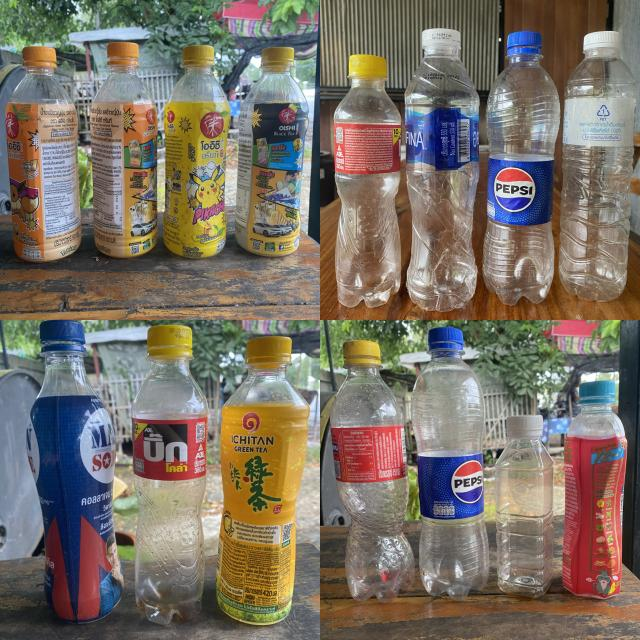plastik: (26, 320, 124, 622), (218, 336, 310, 624), (131, 325, 209, 624), (330, 340, 415, 602), (559, 31, 638, 301), (482, 31, 560, 304), (411, 328, 489, 601), (405, 29, 479, 311), (334, 55, 401, 308), (5, 46, 81, 261), (235, 48, 309, 256), (90, 42, 158, 258), (562, 381, 628, 599), (164, 45, 230, 259), (495, 415, 554, 598)
